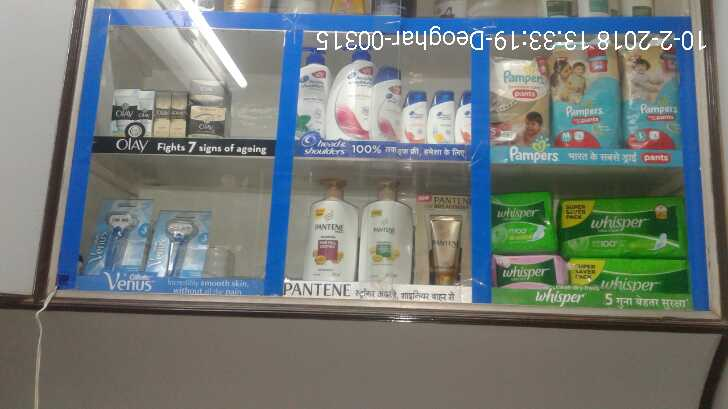venus: (90, 203, 153, 279), (153, 212, 197, 279)
